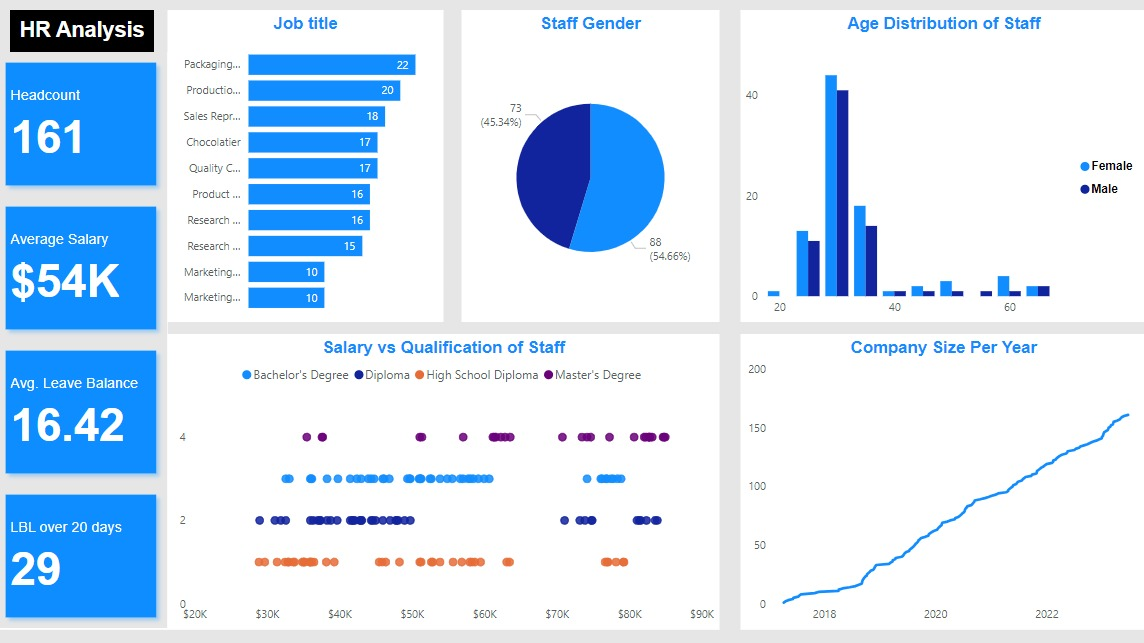

Layout of this report page (visuals, bound fields, positions):
{"tool":"powerbi","page":{"name":"Page 11","canvas":[1280,720],"ordinal":10},"visuals":[{"type":"cardVisual","fields":{"Data":["data.Headcount","data.Average Salary","data.Avg. Leave Balance","data.LBL over 20 days"]},"box":[0,60,191.7,641.7],"z":0},{"type":"clusteredBarChart","title":"Job title","fields":{"Category":["data.Job Title"],"Y":["data.Headcount"]},"box":[191.7,13.3,306.7,346.7],"z":1000},{"type":"pieChart","title":"Staff Gender","fields":{"Category":["data.Gender"],"Y":["data.Headcount"]},"box":[518.3,13.3,286.7,346.7],"z":2000},{"type":"clusteredColumnChart","title":"Age Distribution of Staff","fields":{"Category":["data.Age (bins)"],"Y":["data.Headcount"],"Series":["data.Gender"]},"box":[828.3,13.3,451.7,346.7],"z":3000},{"type":"scatterChart","title":"Salary vs Qualification of Staff","fields":{"X":["data.Salary"],"Y":["Qualification Query.Qualification ID"],"Series":["Qualification Query.Qualification"]},"box":[191.7,373.3,613.3,328.3],"z":4000},{"type":"lineChart","title":"Company Size Per Year","fields":{"Y":["data.Cumulative Headcount"],"Category":["data.Date of Join"]},"box":[828.3,373.3,451.7,328.3],"z":5000},{"type":"textbox","box":[16.7,13.3,160,46.7],"z":6000}]}

Visuals, with their boxes in screenshot pixels (x1, y1, x2, y2), scaled from the page's 1280x720 canvas onto the 1144x643 screenshot:
cardVisual - data.Headcount x data.Average Salary: x1=0, y1=54, x2=171, y2=627
"Job title" clusteredBarChart: x1=171, y1=12, x2=445, y2=322
"Staff Gender" pieChart: x1=463, y1=12, x2=719, y2=322
"Age Distribution of Staff" clusteredColumnChart: x1=740, y1=12, x2=1143, y2=322
"Salary vs Qualification of Staff" scatterChart: x1=171, y1=333, x2=719, y2=627
"Company Size Per Year" lineChart: x1=740, y1=333, x2=1143, y2=627
textbox: x1=15, y1=12, x2=158, y2=54
